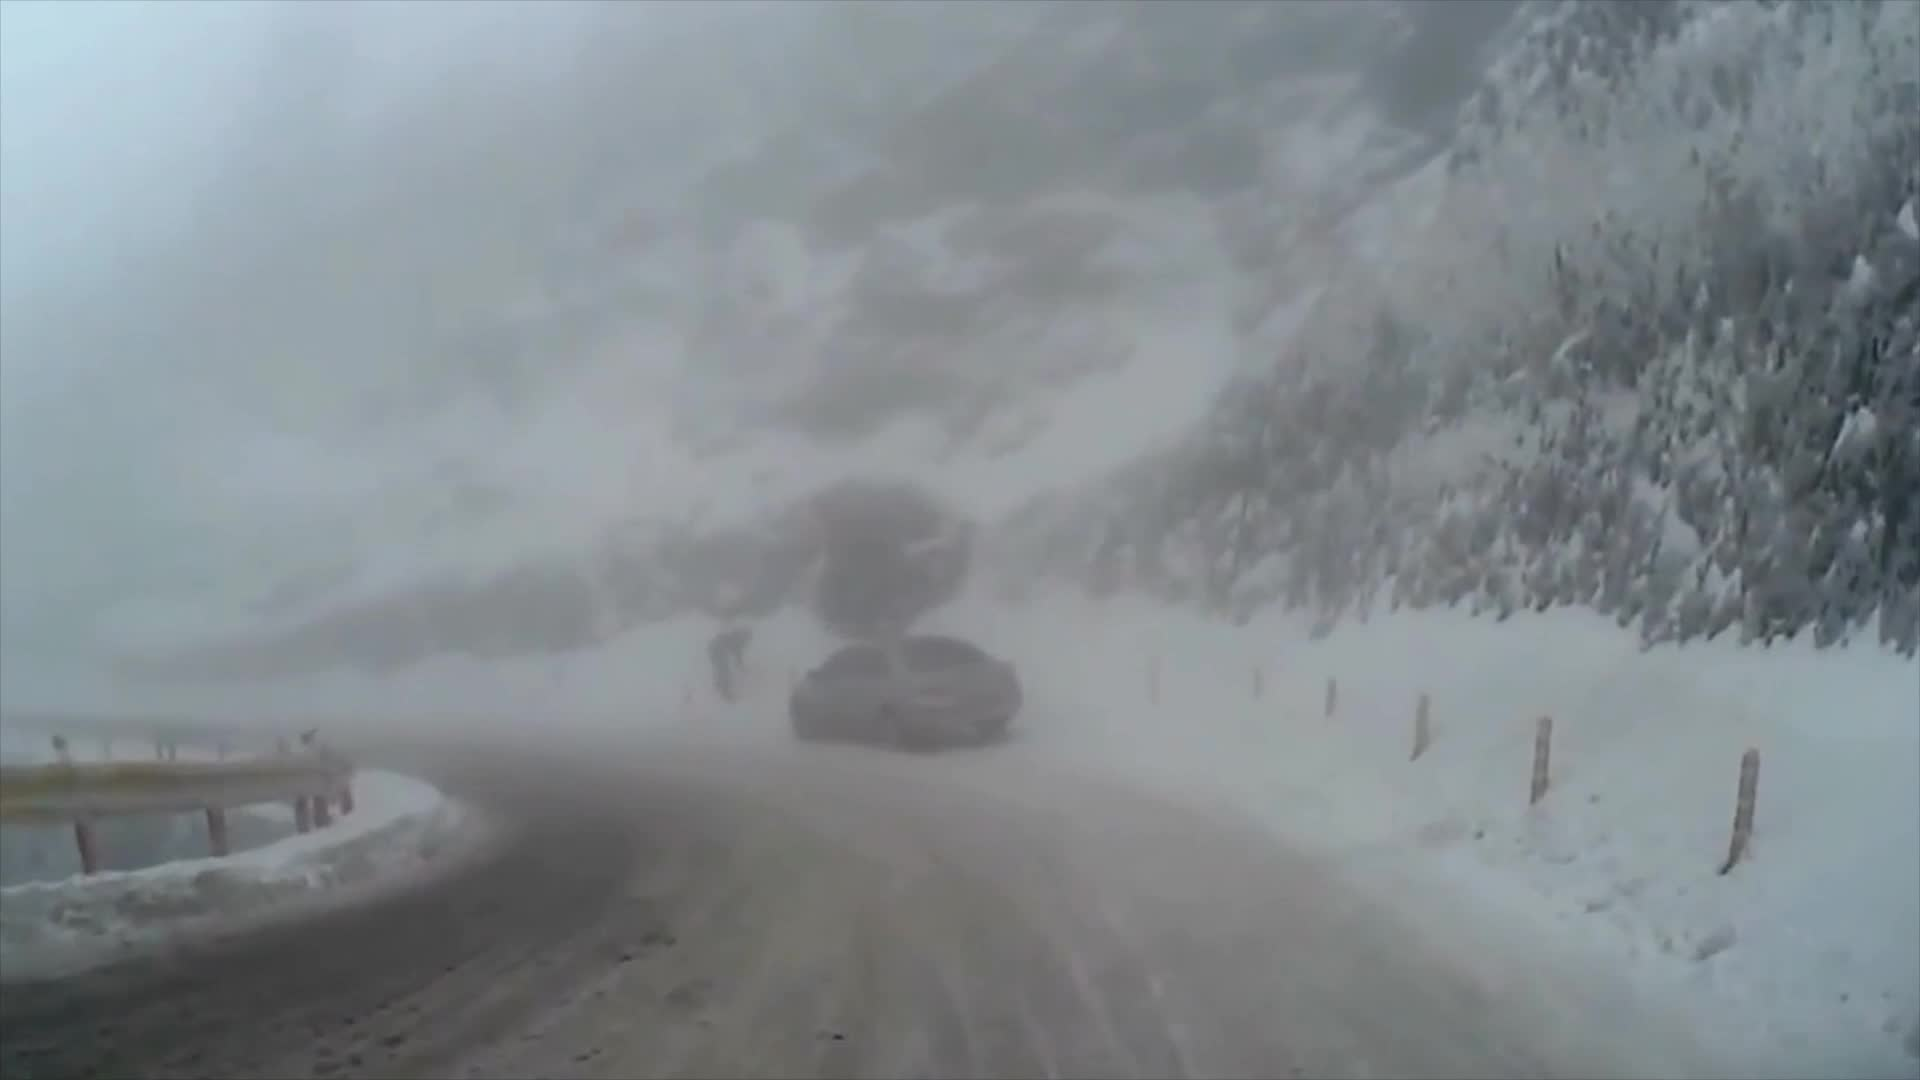pedestrian: (712, 629, 755, 708)
vehicle: (792, 639, 1025, 758)
